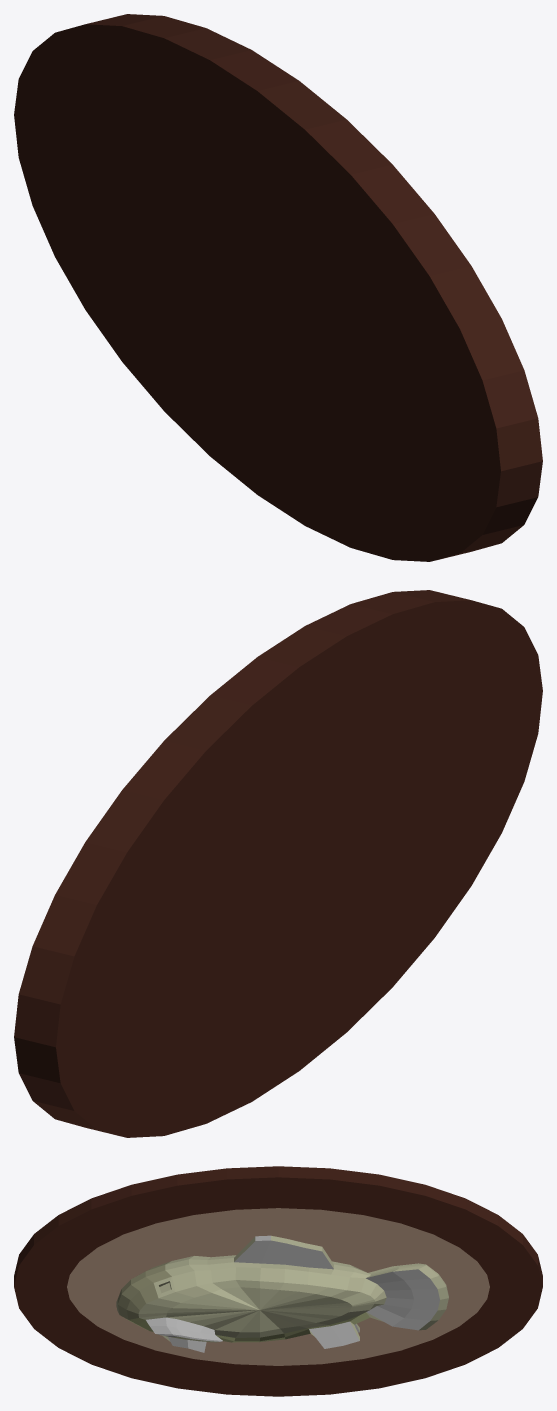
Rendered from billybass.fbx.
3 views of the same model, one above another, from view 1: azimuth 30°, elevation 25°; view 2: azimuth 150°, elevation 25°; view 3: azimuth 270°, elevation 25° (orthographic). The views are drawn at different scales.
Parts seen in each view (by area): view 1: Cylinder.015; view 2: Cylinder.015; view 3: Cylinder.015.
Part boxes in pixels (x1,y1,x2,y2): Cylinder.015: (14, 14, 542, 561); Cylinder.015: (14, 590, 542, 1137); Cylinder.015: (14, 1166, 542, 1396).
Bounding box in the file's own units: 590 × 270 × 104.
